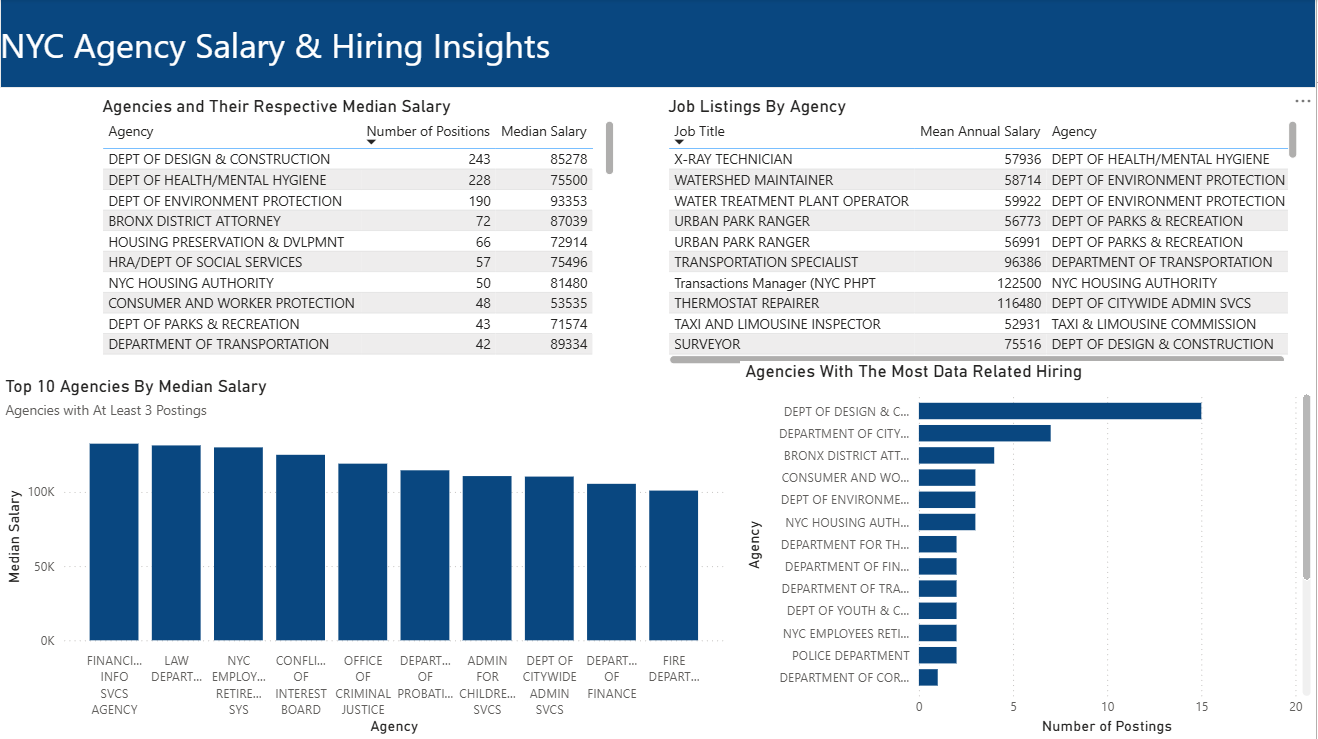

Layout of this report page (visuals, bound fields, positions):
{"tool":"powerbi","page":{"name":"Salary and Hiring Insights","canvas":[1280,720],"ordinal":1},"visuals":[{"type":"tableEx","title":"Agencies and Their Respective Median Salary","fields":{"Values":["agency_median_salary.Agency","agency_median_salary.count","agency_median_salary.median"]},"box":[94.3,94.3,507.7,259.7],"z":0},{"type":"tableEx","title":"Job Listings By Agency","fields":{"Values":["nyc_jobs_cleaned.Civil Service Title","nyc_jobs_cleaned.Mean Annual Salary","nyc_jobs_cleaned.Agency"]},"box":[644.9,94.3,621.5,265.5],"z":1000},{"type":"clusteredColumnChart","title":"Top 10 Agencies By Median Salary","fields":{"Category":["agency_median_salary.Agency"],"Y":["Sum(agency_median_salary.median)"]},"box":[0,366.7,709.1,353.1],"z":2000},{"type":"shape","box":[0,0,1280,86.6],"z":3000},{"type":"barChart","title":"Agencies With The Most Data Related Hiring","fields":{"Category":["data_roles_by_agency.Agency"],"Y":["Sum(data_roles_by_agency.Count)"]},"box":[719.8,352.1,560.2,367.7],"z":4000}]}

Visuals, with their boxes in screenshot pixels (x1, y1, x2, y2), scaled from the page's 1280x720 canvas onto the 1318x739 screenshot:
"Agencies and Their Respective Median Salary" tableEx: <bbox>97, 97, 620, 363</bbox>
"Job Listings By Agency" tableEx: <bbox>664, 97, 1304, 369</bbox>
"Top 10 Agencies By Median Salary" clusteredColumnChart: <bbox>0, 376, 730, 738</bbox>
shape: <bbox>0, 0, 1317, 89</bbox>
"Agencies With The Most Data Related Hiring" barChart: <bbox>741, 361, 1317, 738</bbox>
